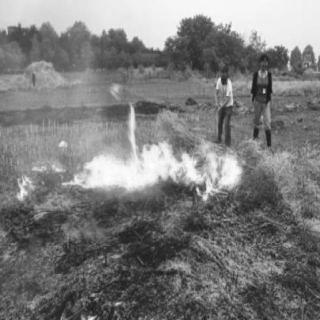Fire: (46, 282, 134, 316)
